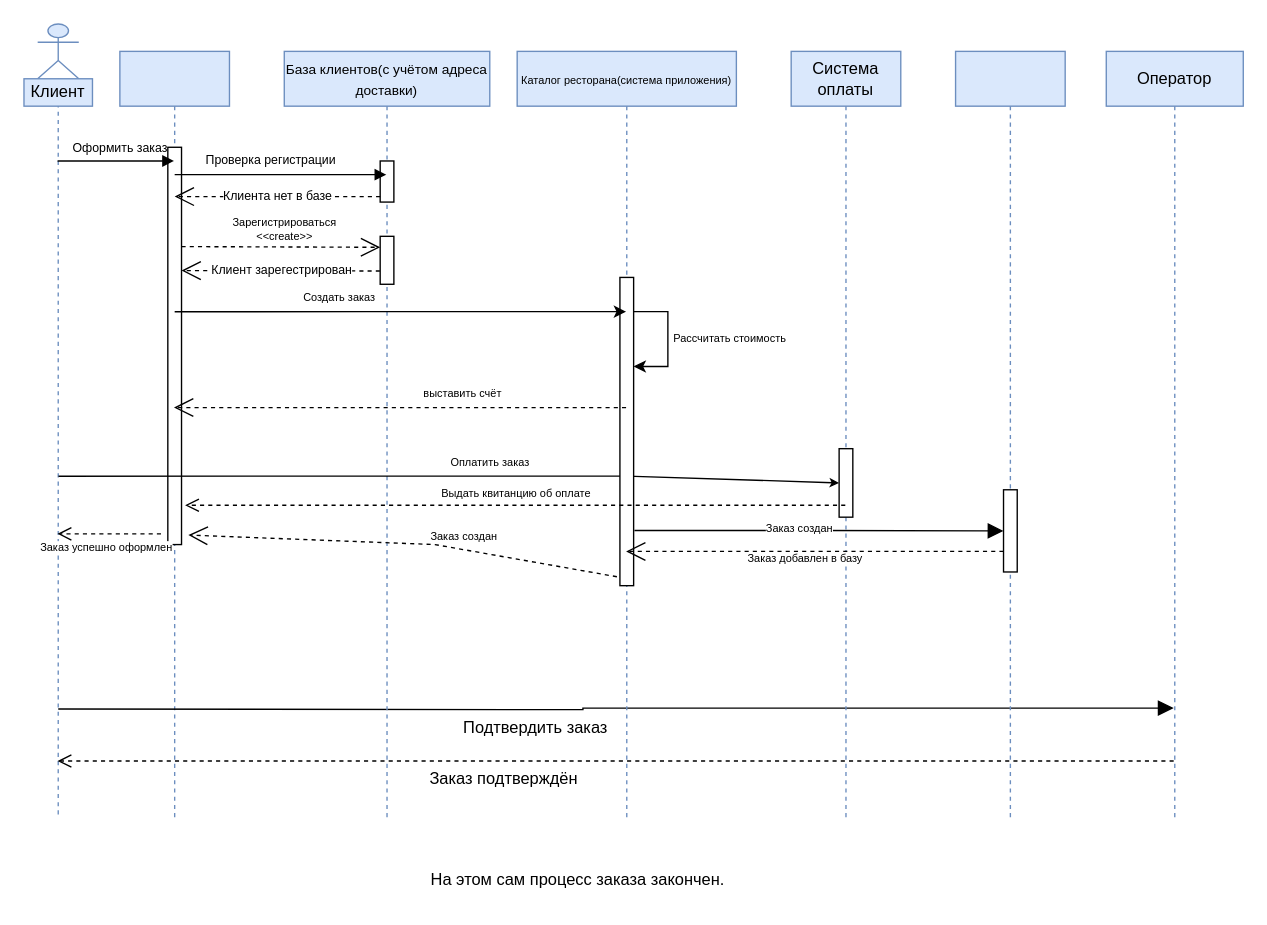
Some shapes in this 1267 by 925 pixel diagram are drawn without their labels. Here are the shapes that lost their labels. From the top down, the box of each, then its label:
(119, 50, 229, 819): Личный кабинет
(954, 50, 1065, 819): База заказа
